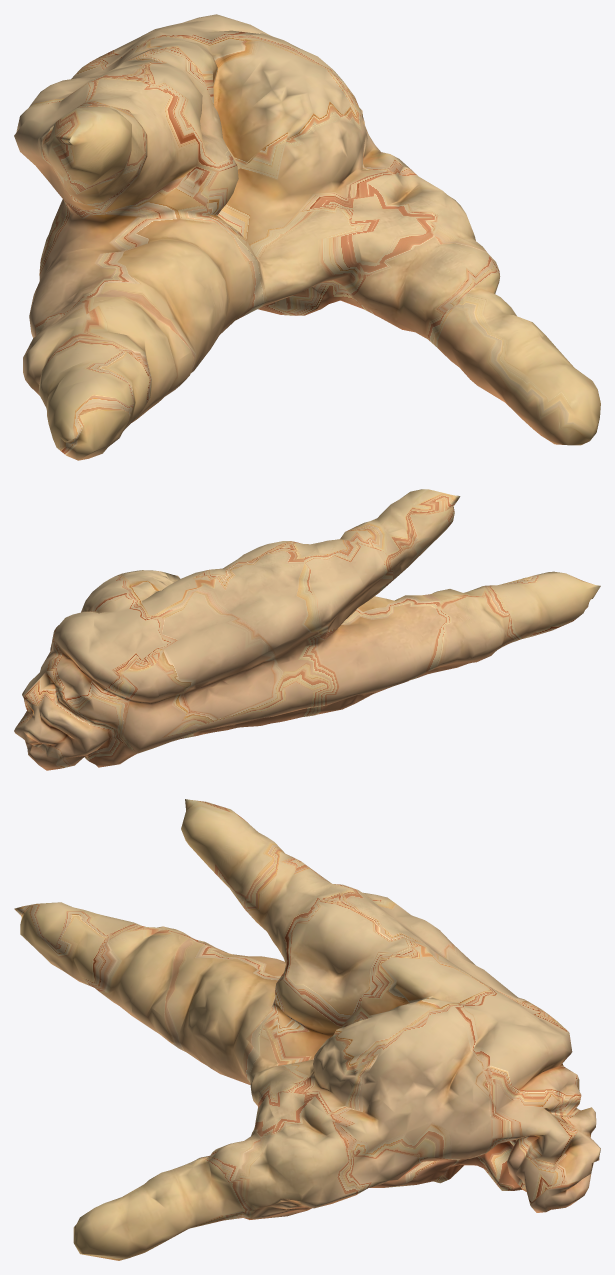
Rendered from chicken-foot-mini.glb.
3 renders of one model, top to bottom at view 1: azimuth 30°, elevation 25°; view 2: azimuth 150°, elevation 25°; view 3: azimuth 270°, elevation 25°, orthographic. The views are drawn at different scales.
Bounding box in the file's own units: 0.8853 × 0.5498 × 0.9919.
1 material, 1 textured.
